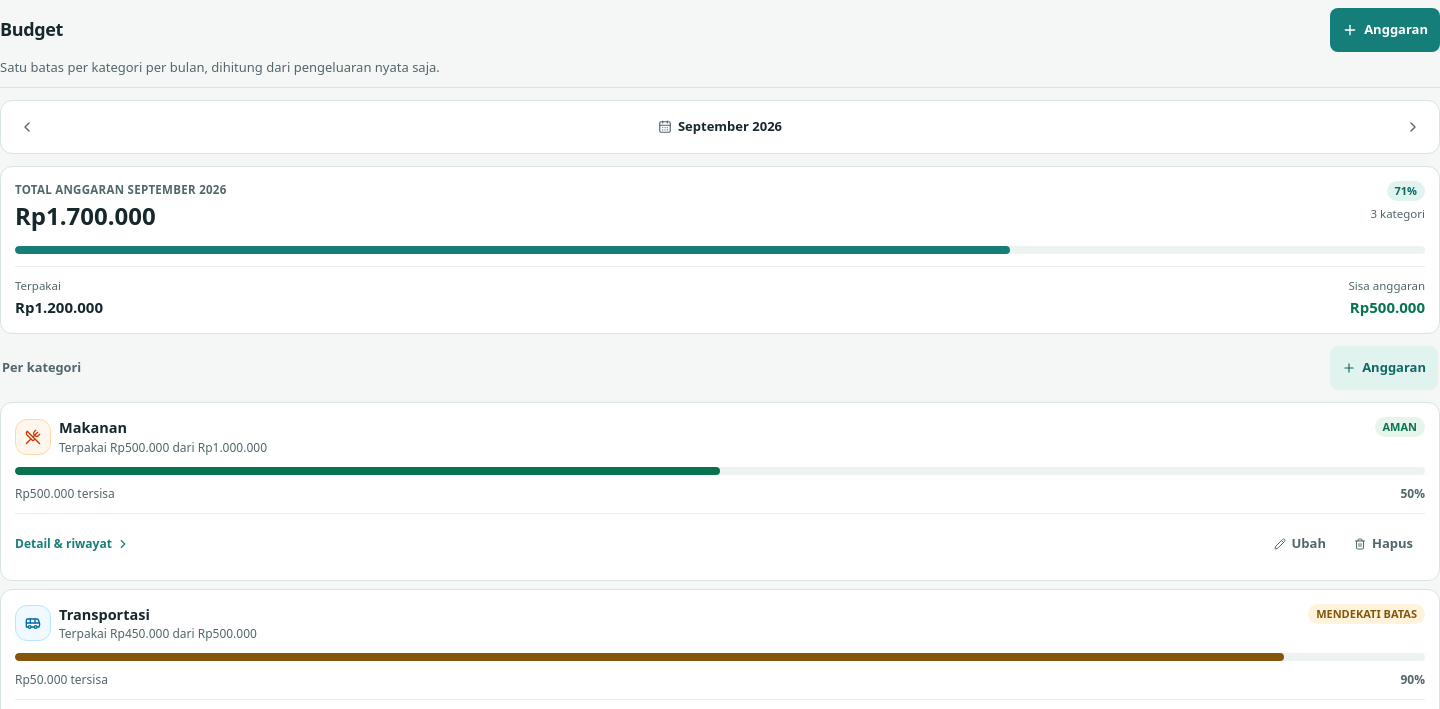
Test case: Budgets UX — Edit Budget Flow › renders in-flow actions, hides header '+ Anggaran' action during inline edit, and restores on cancel
Check: the number of links "Anggaran" is 2, box [1330, 8, 1439, 52]; [1330, 346, 1438, 390]
// Open inline edit for Makanan
Click the button with aria-label "Ubah budget Makanan": (1300, 544) [1262, 522, 1338, 566]
(page scrolled)
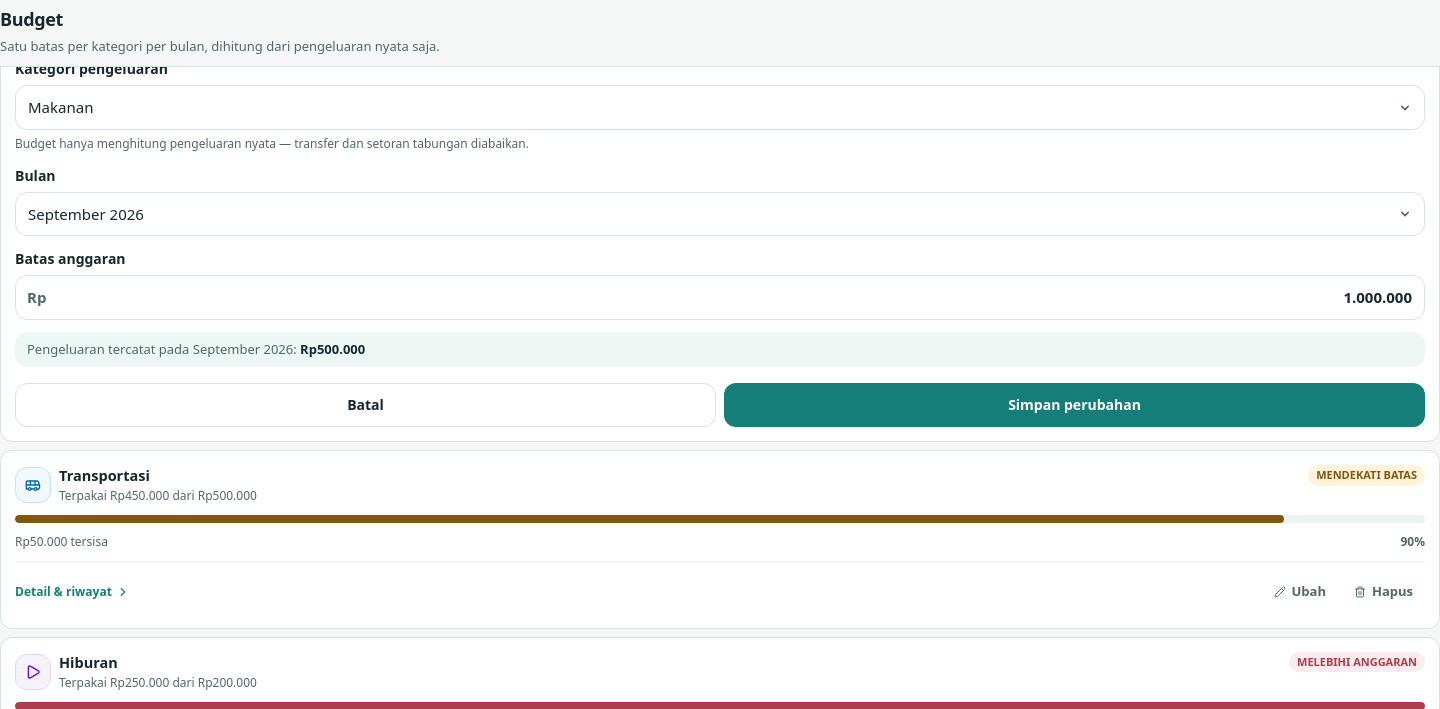
Check: the button "Batal" is shown
Check: the button "Simpan perubahan" is shown, box [724, 383, 1425, 427]
// Cancel inline edit
Click the button "Batal": (366, 405) [15, 383, 716, 427]
(page scrolled)
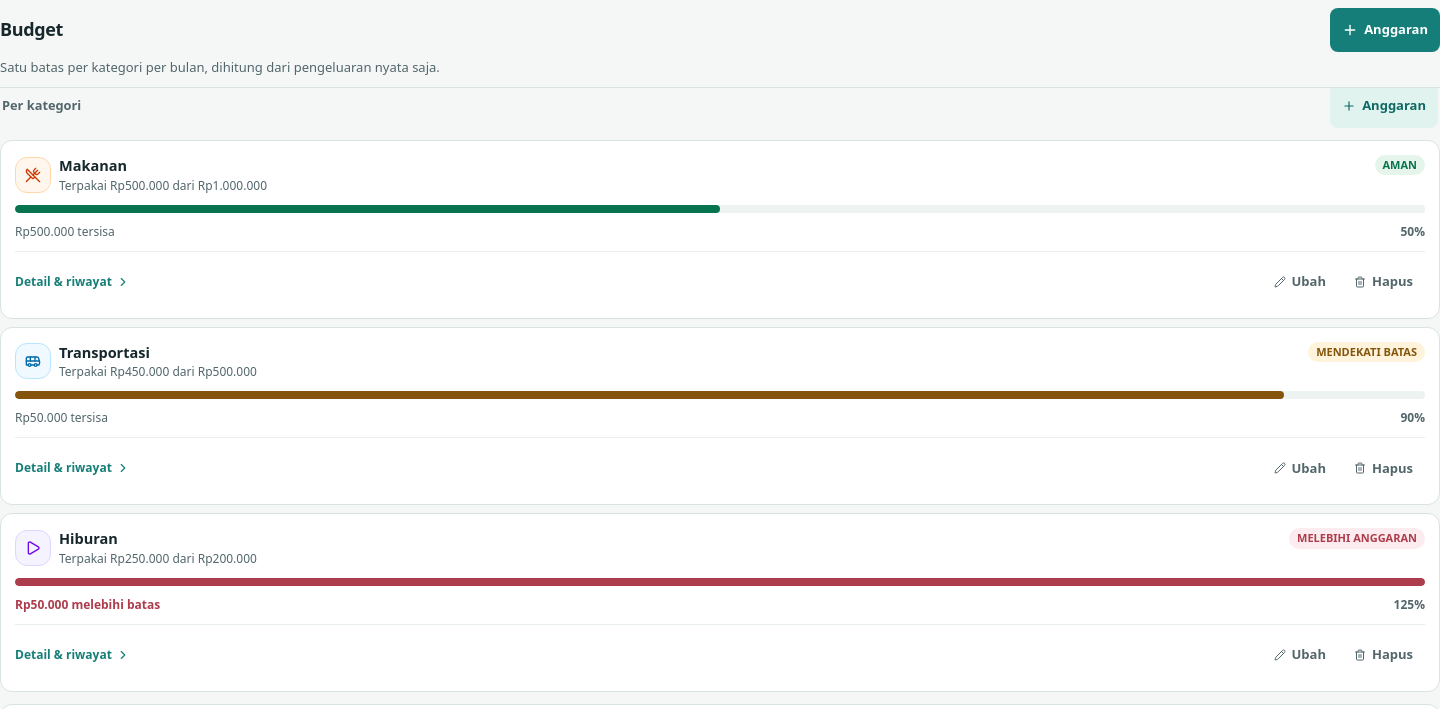
Check: the button "Simpan perubahan" is gone
Check: the number of links "Anggaran" is 2, box [1330, 8, 1439, 52]; [1330, 84, 1438, 128]
